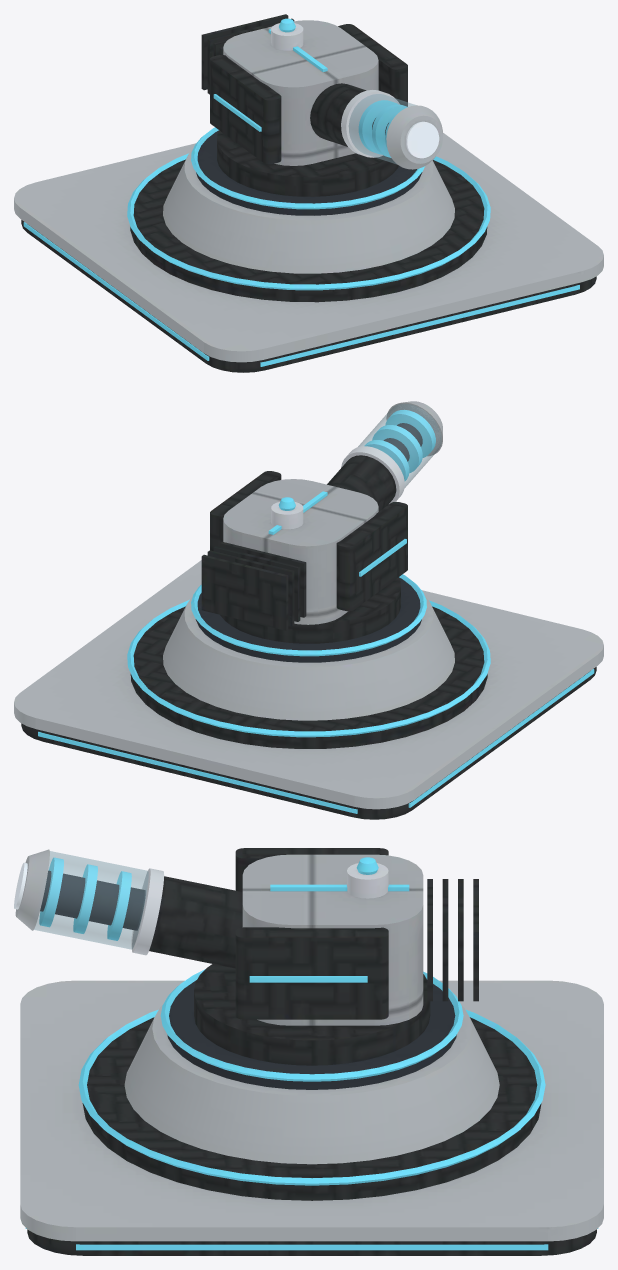
File: enterprise_laser.glb
3 views of the same model, one above another, from view 1: azimuth 30°, elevation 25°; view 2: azimuth 150°, elevation 25°; view 3: azimuth 270°, elevation 25° (orthographic). The views are drawn at different scales.
Visible parts, largest first — view 1: te_enterprise_laser, move_scope; view 2: te_enterprise_laser, move_scope; view 3: te_enterprise_laser, move_scope.
Part boxes in pixels (bbox=[...]): te_enterprise_laser: bbox=[14, 94, 603, 372]; move_scope: bbox=[201, 14, 442, 196]; te_enterprise_laser: bbox=[14, 403, 603, 819]; move_scope: bbox=[201, 401, 442, 643]; te_enterprise_laser: bbox=[20, 851, 603, 1255]; move_scope: bbox=[14, 848, 478, 1065].
Size of the model in its own units: 0.84 by 0.448 by 0.849.
2 materials, 1 textured.
